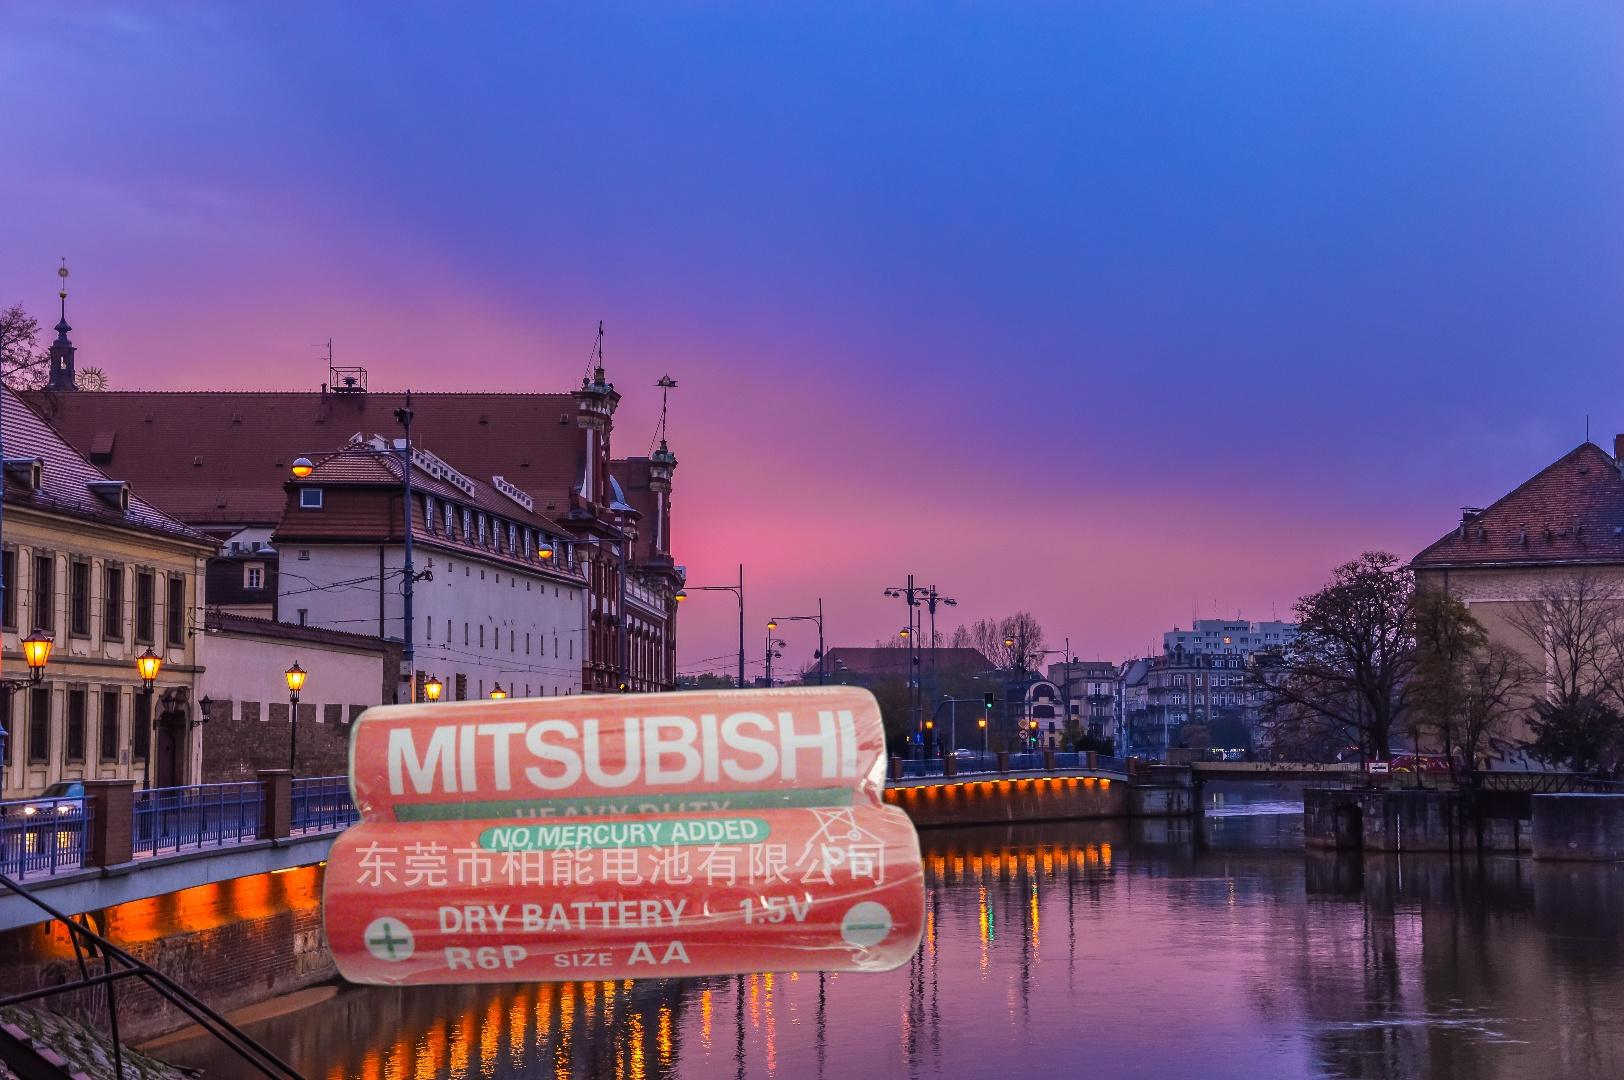battery: (316, 680, 932, 992)
